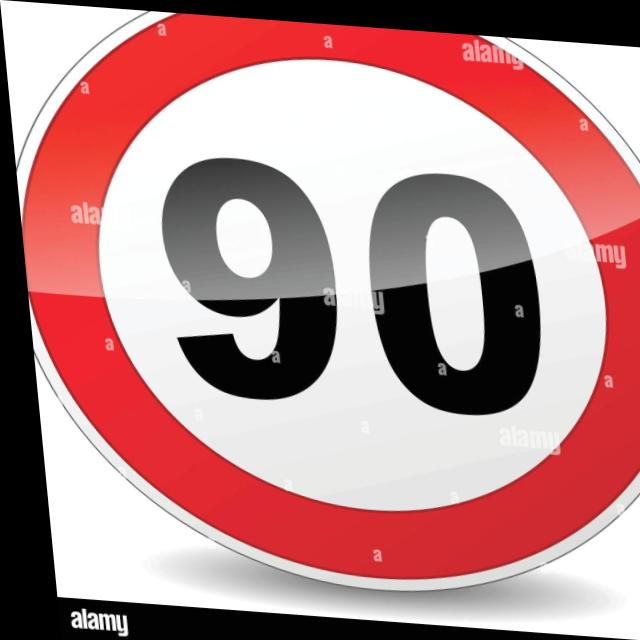SPEED_LIMIT_90: (0, 0, 640, 614)
